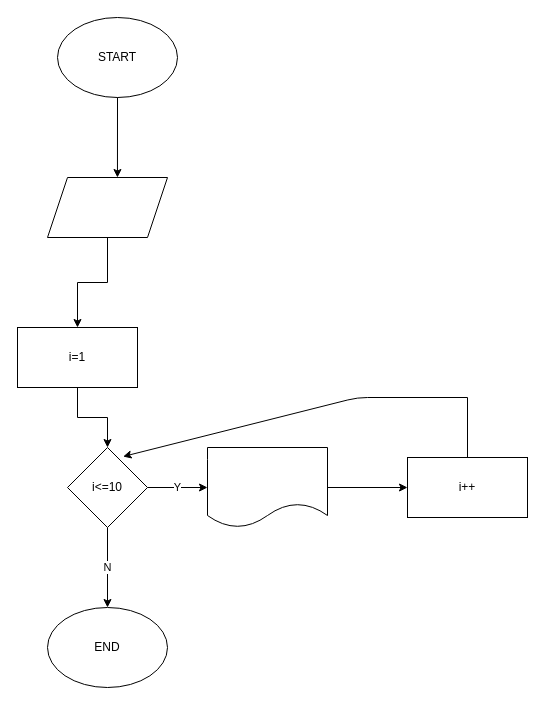
The diagram is 545 pixels wide and 705 high, and some of its shapes have lost their labels. The centre of each missing label's shape, as x and y in pixels:
"i*j" goes at point 267,487.
"read j" goes at point 107,207.
